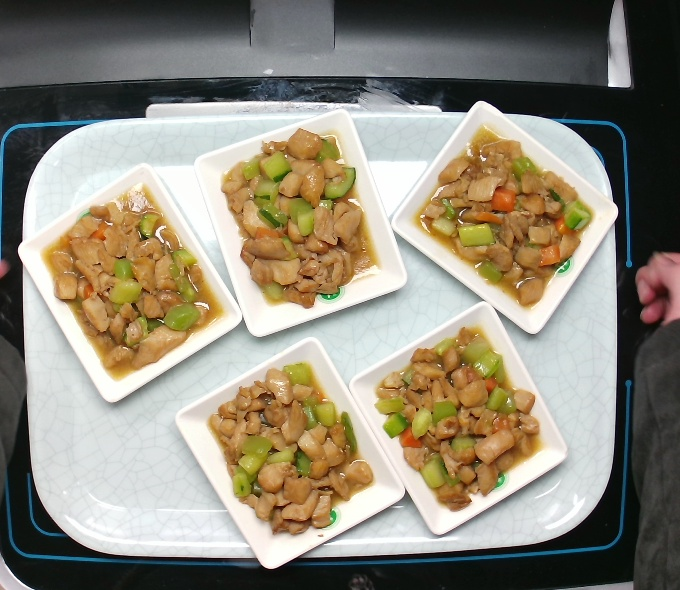wcq-GongBaoJiDing: (205, 355, 381, 541), (374, 323, 544, 514), (418, 132, 596, 310), (50, 195, 213, 379), (219, 123, 371, 311)
